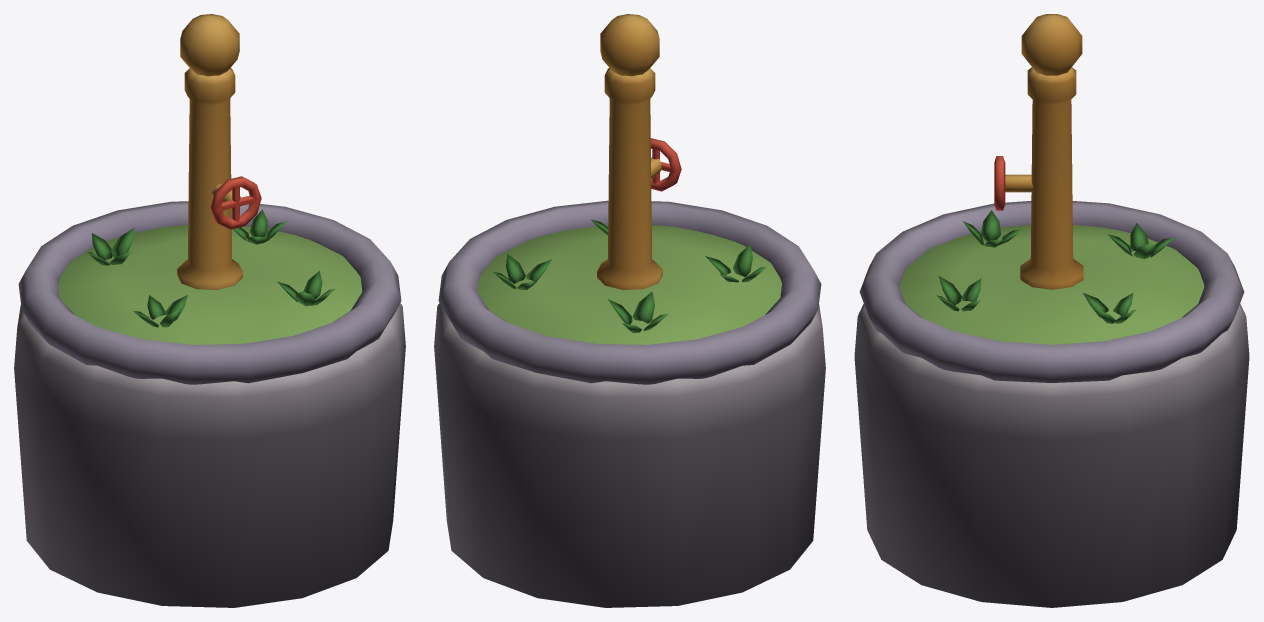
The model's file is sprinkler.glb.
The picture shows the model from 3 angles, left to right: view 1: azimuth 30°, elevation 25°; view 2: azimuth 150°, elevation 25°; view 3: azimuth 270°, elevation 25°; orthographic projection.
Visible parts, largest first — view 1: sprinkler; view 2: sprinkler; view 3: sprinkler.
Boxes of the visible parts, x1,y1,x2,y2 form: sprinkler: (14,14,405,607); sprinkler: (434,14,825,607); sprinkler: (854,14,1249,607).
Size of the model in its own units: 0.62 by 0.89 by 0.62.
